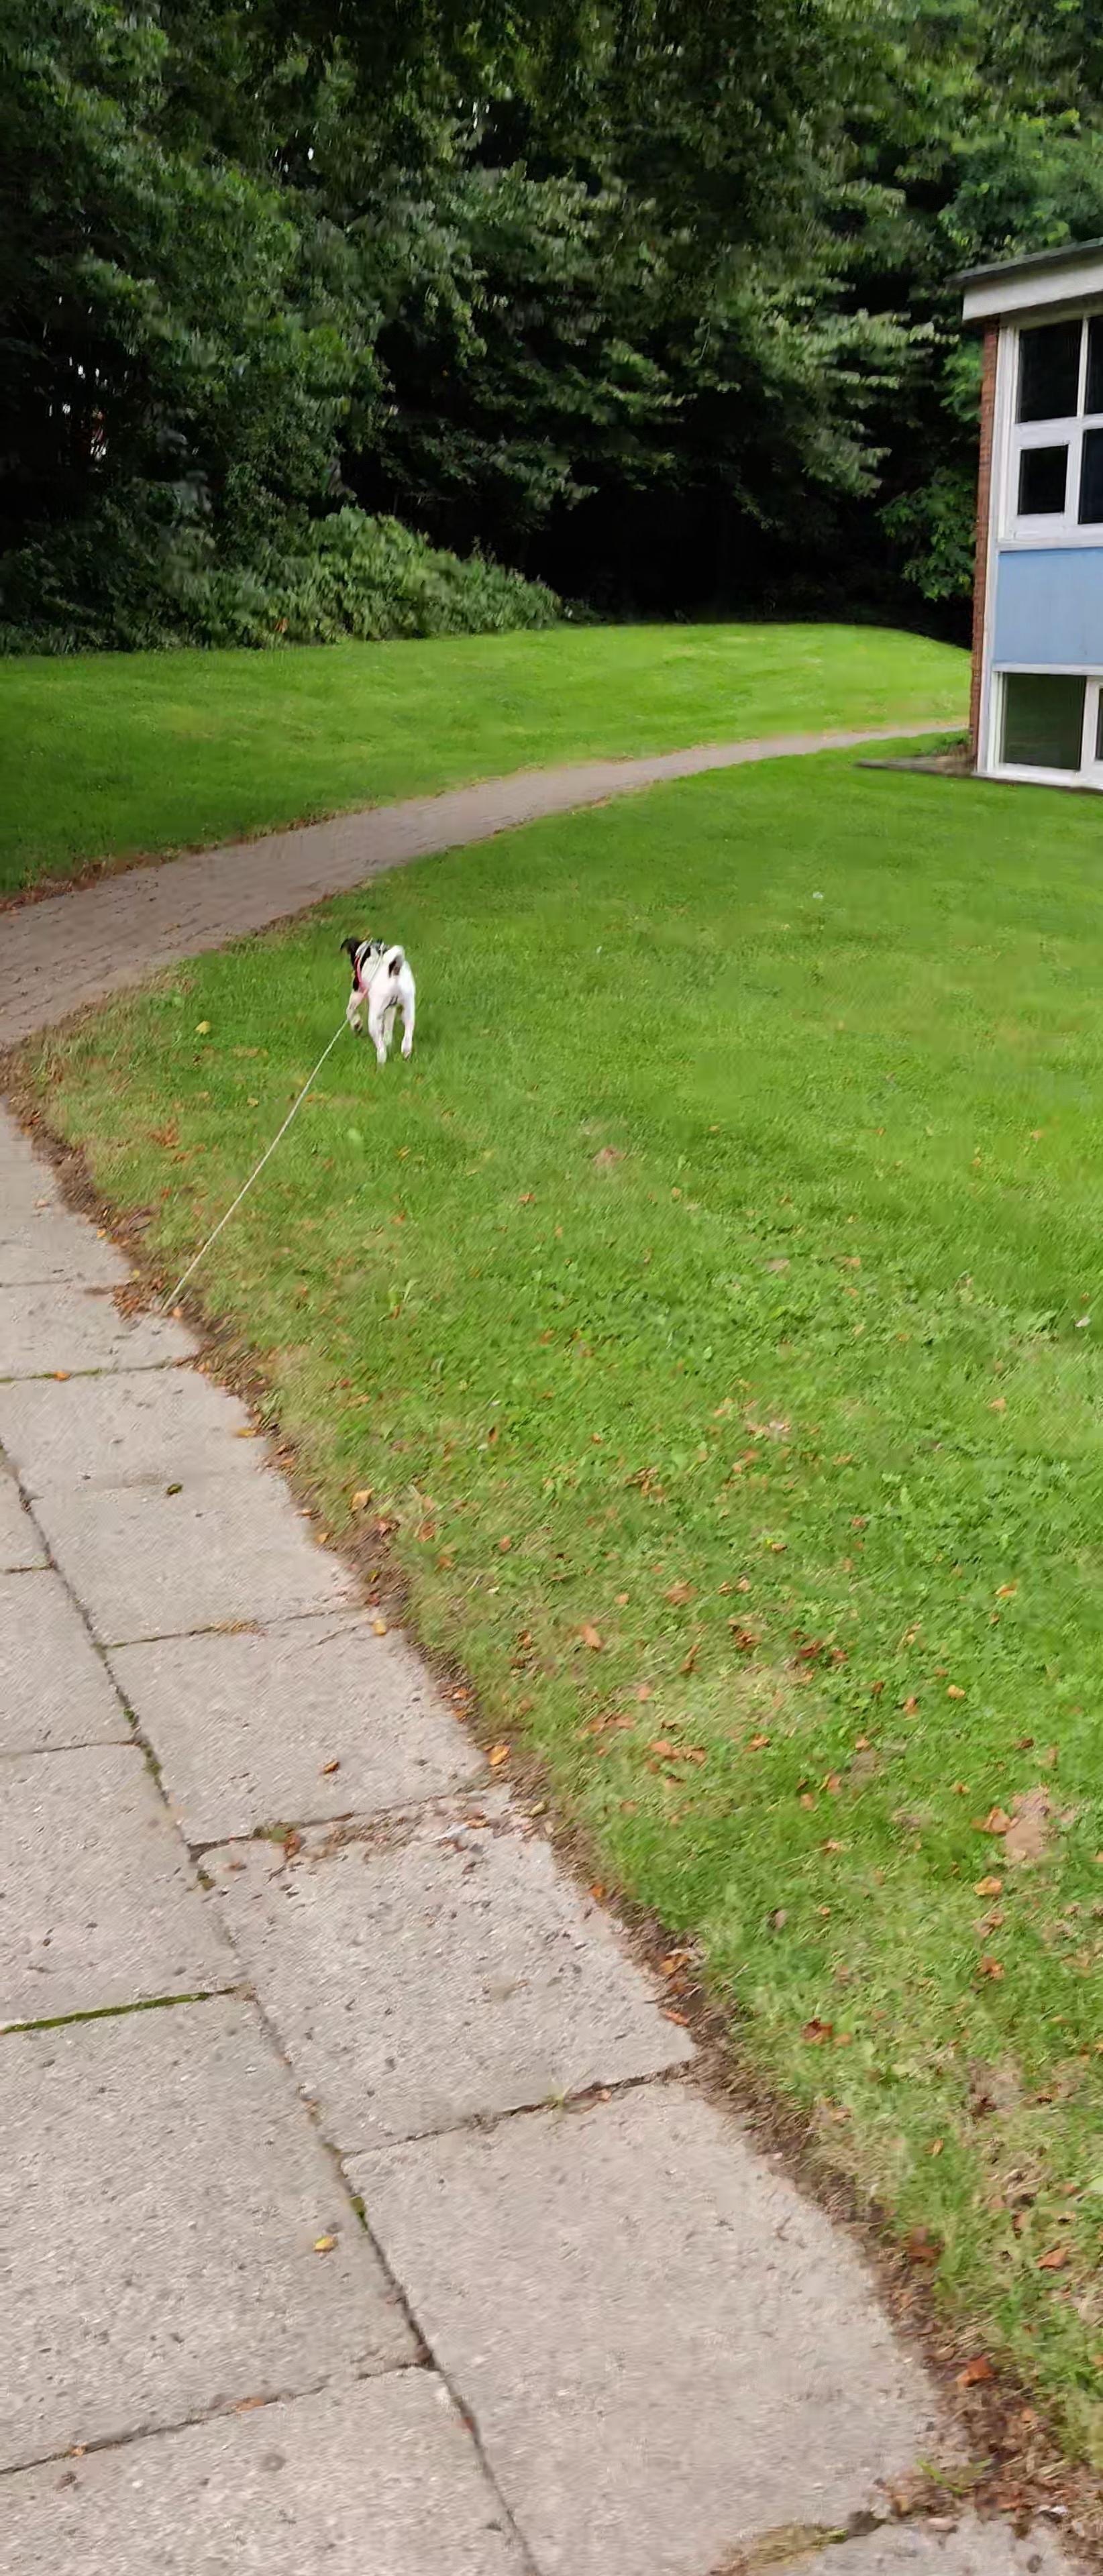Dog: (337, 933, 421, 1065)
